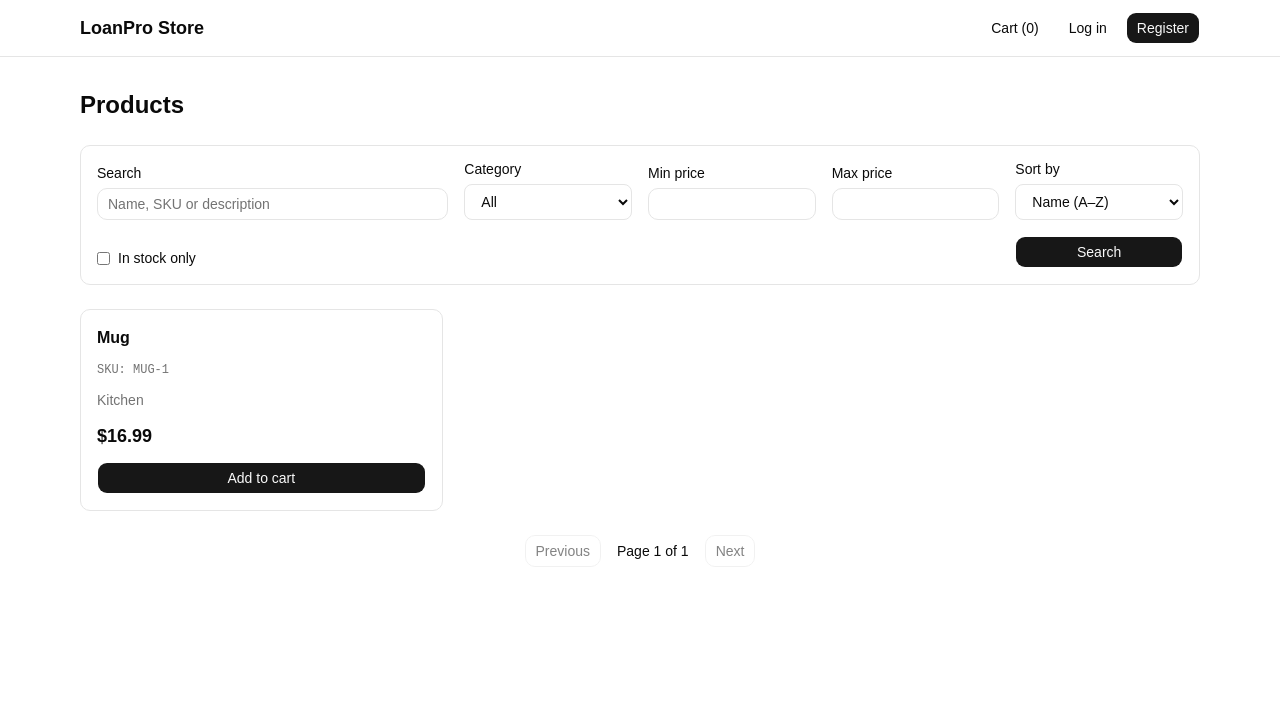
cart › adds products from the catalog and shows the count in the header
The width and height of the screenshot is (1280, 720).
What coordinates should you click on to do the following:
click the button "Add to cart"
I would click on:
 (261, 478)
Its box is x1=97 y1=462 x2=426 y2=494.
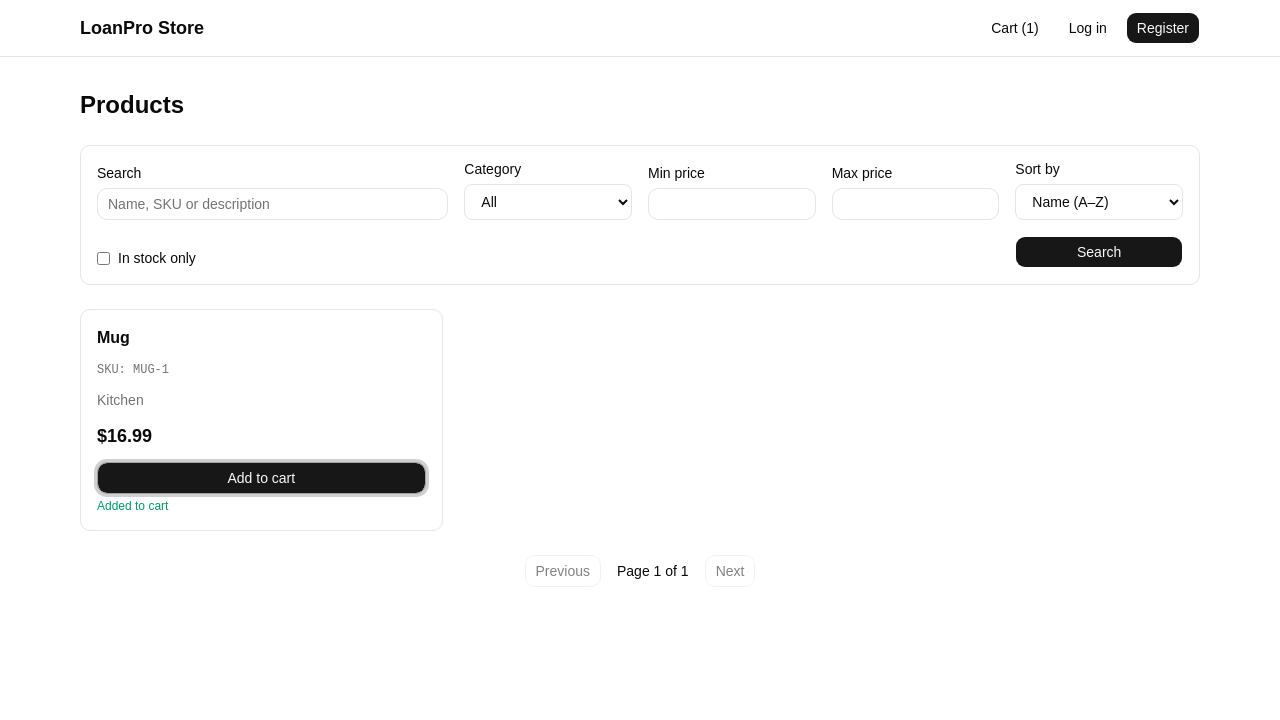
What coordinates should you click on to do the following:
click the button "Add to cart"
I would click on:
 (261, 478)
Its box is x1=97 y1=462 x2=426 y2=494.
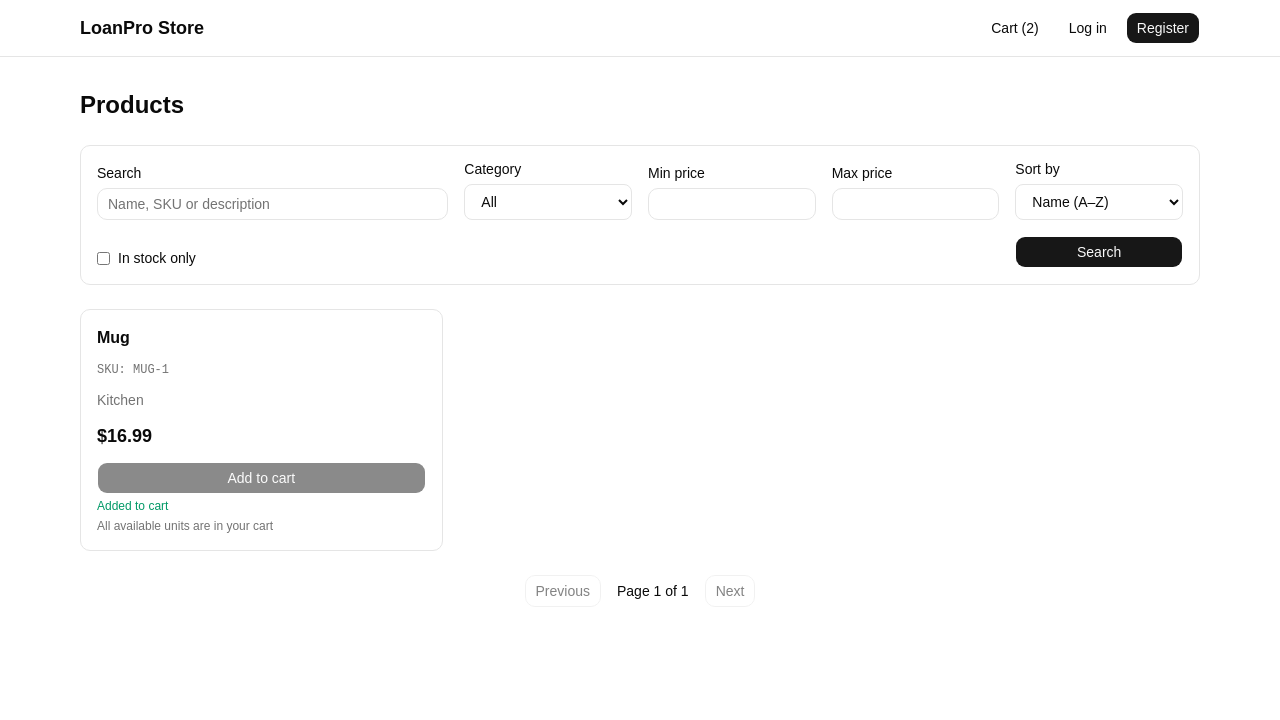
Check: the button "Add to cart" is disabled, box x1=97 y1=462 x2=426 y2=494
Check: the text "All available units are in your cart" is shown, box x1=97 y1=519 x2=273 y2=533
